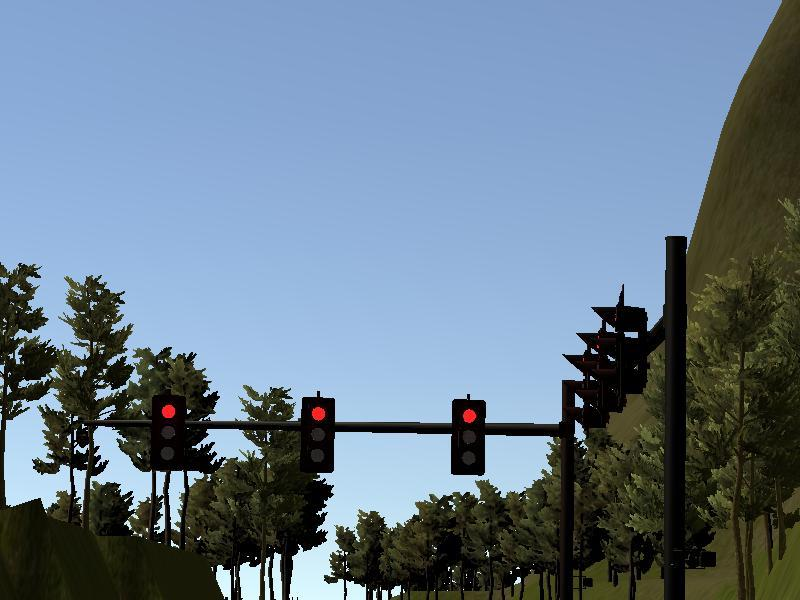Red: (153, 394, 186, 466), (453, 400, 484, 475), (303, 399, 334, 470)
